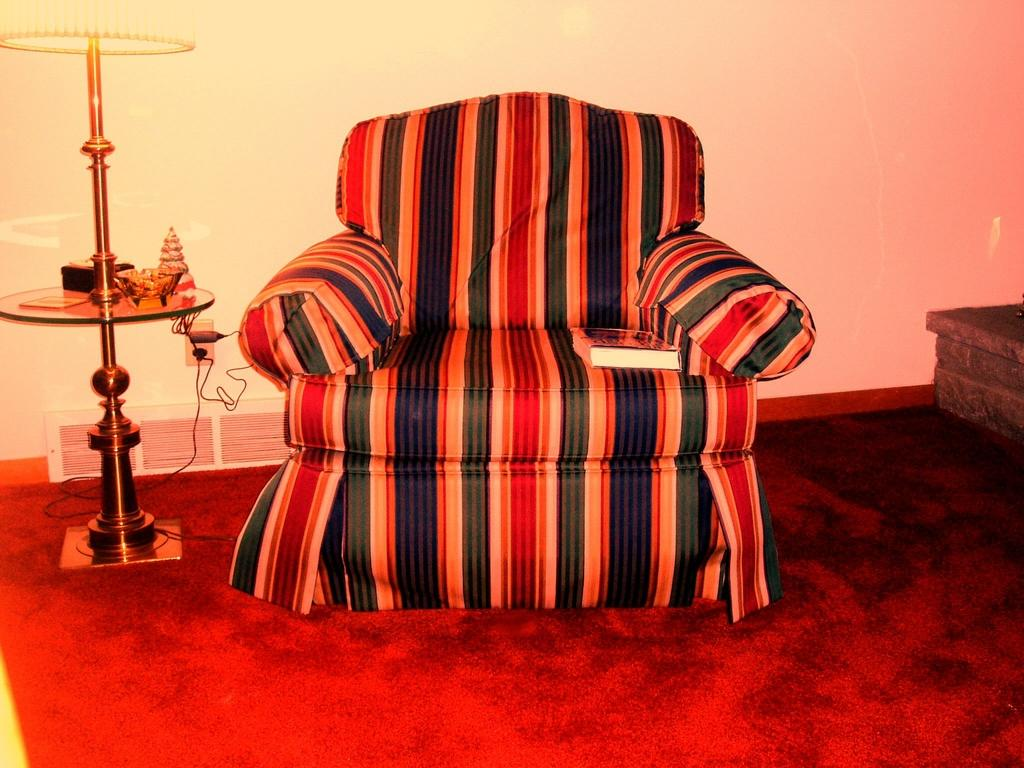Chair: (222, 79, 824, 632)
